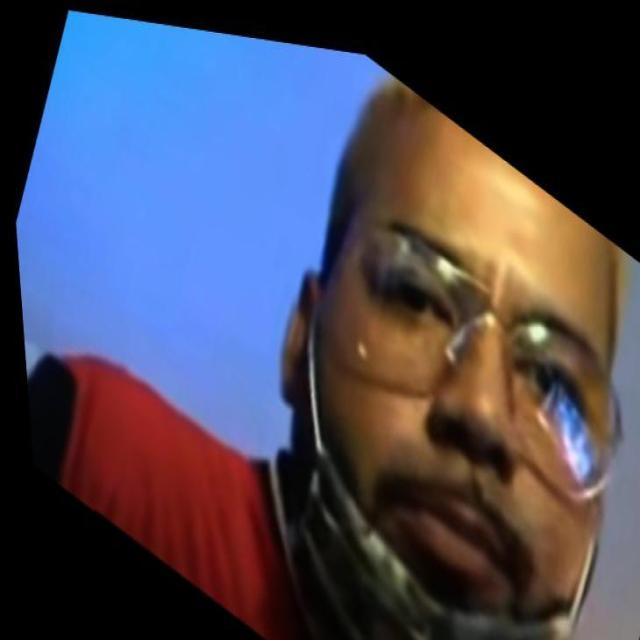hairnet: (230, 128, 640, 639)
